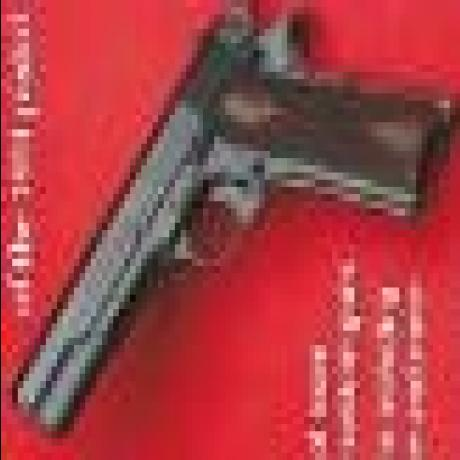weapon: (6, 0, 460, 447)
